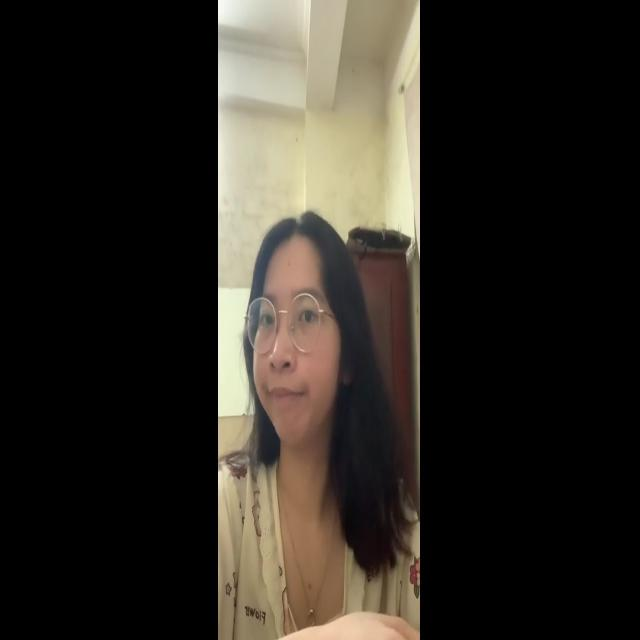student: (230, 189, 394, 625)
